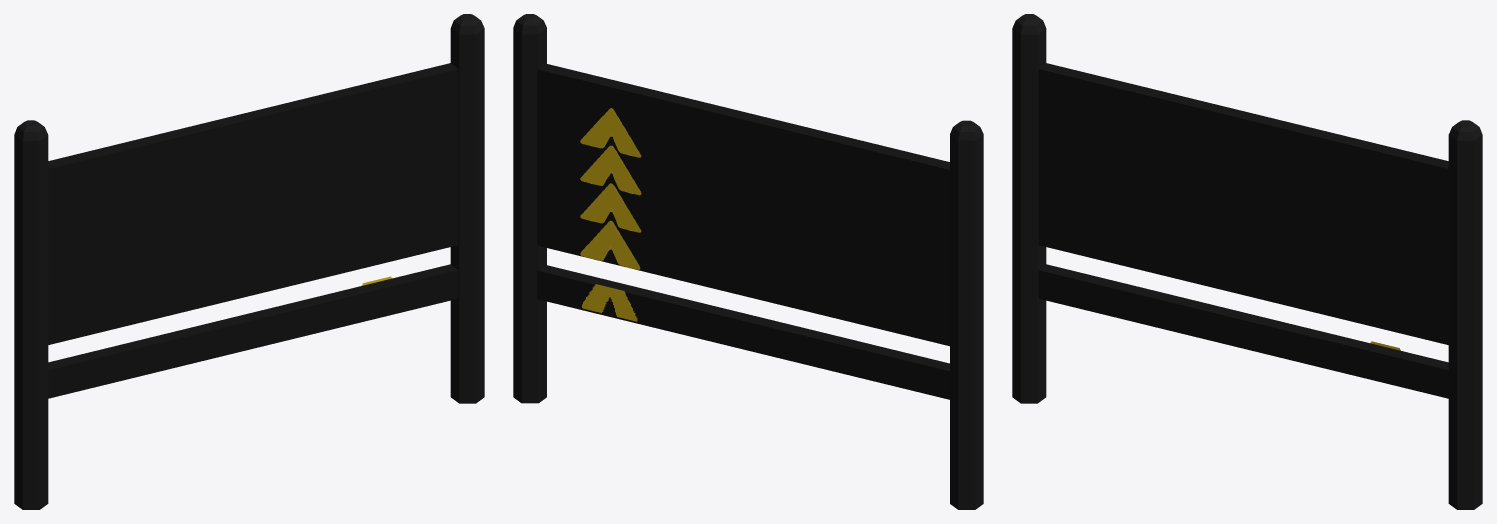
File: obstacles_up.fbx
3 renders of one model, left to right at view 1: azimuth 30°, elevation 25°; view 2: azimuth 150°, elevation 25°; view 3: azimuth 330°, elevation 25°, orthographic.
Visible parts, largest first — view 1: up; view 2: up; view 3: up.
Part boxes in pixels (x1,y1,x2,y2): up: [14, 14, 484, 509]; up: [513, 14, 983, 509]; up: [1012, 14, 1482, 509].
Bounding box in the file's own units: 680 × 535 × 43.32.
Materials: 4 (2 with a texture image).
